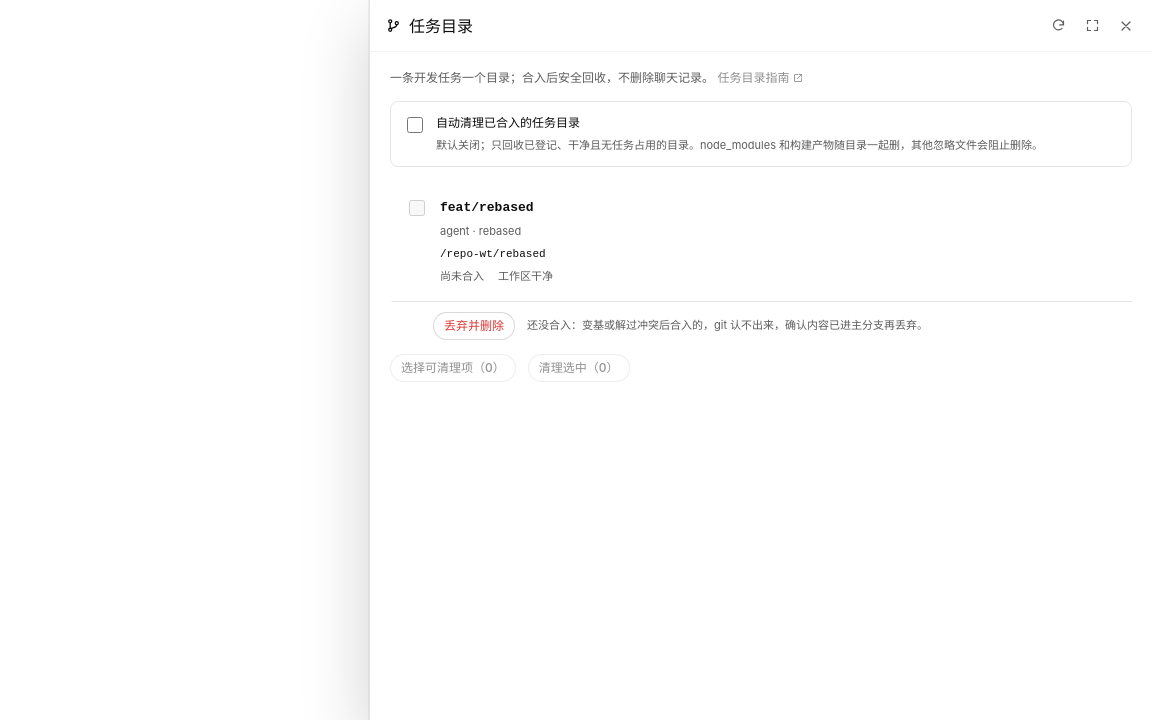
Test: WorktreePanel › shows why a discard was refused and keeps the task line
Step 1. Click the button "丢弃并删除" → (474, 326), box [433,312,515,340]
(page scrolled)
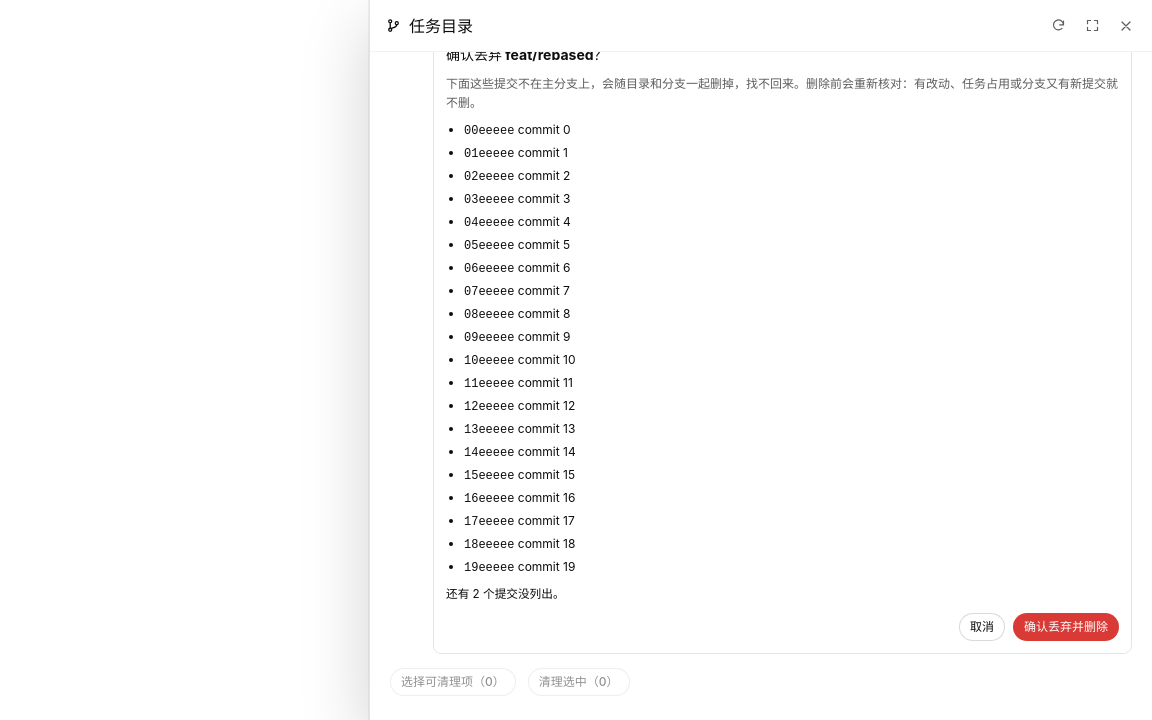
Step 2. Click the button "确认丢弃并删除" → (1066, 627), box [1013,613,1119,641]
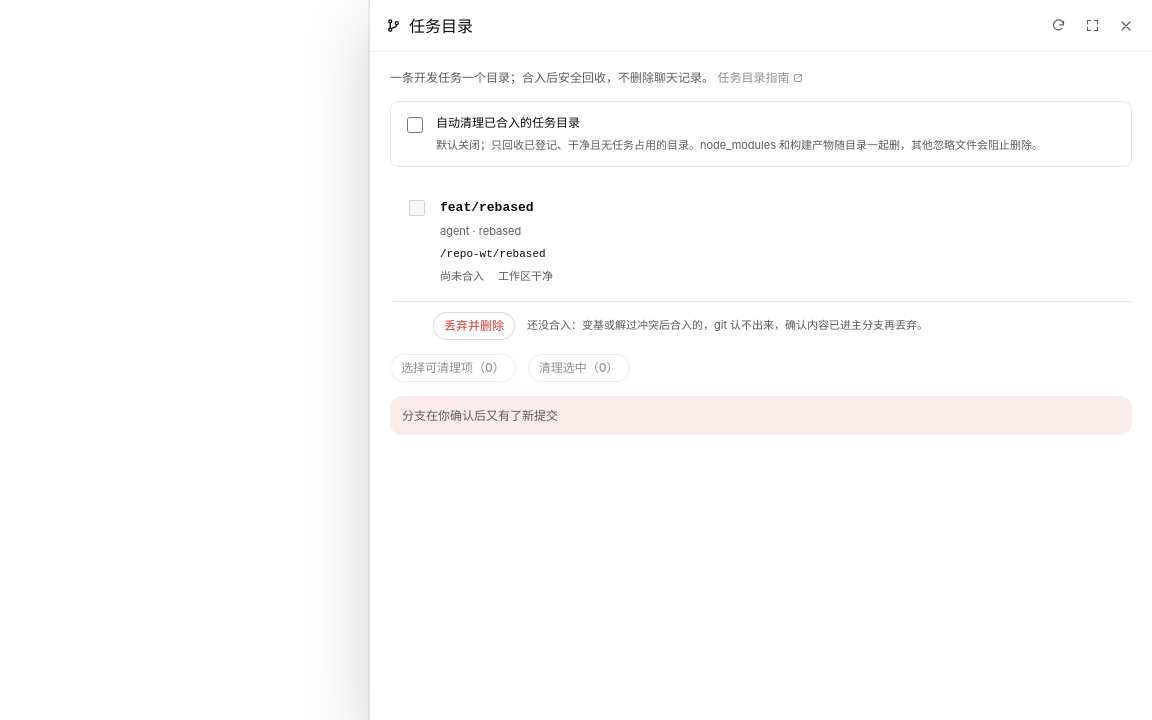
expect the text "feat/rebased" is shown: met, box [440,200,534,215]
expect the text "分支在你确认后又有了新提交" is shown: met, box [390,396,1132,435]
expect the text "确认丢弃 feat/rebased？" is gone: met
